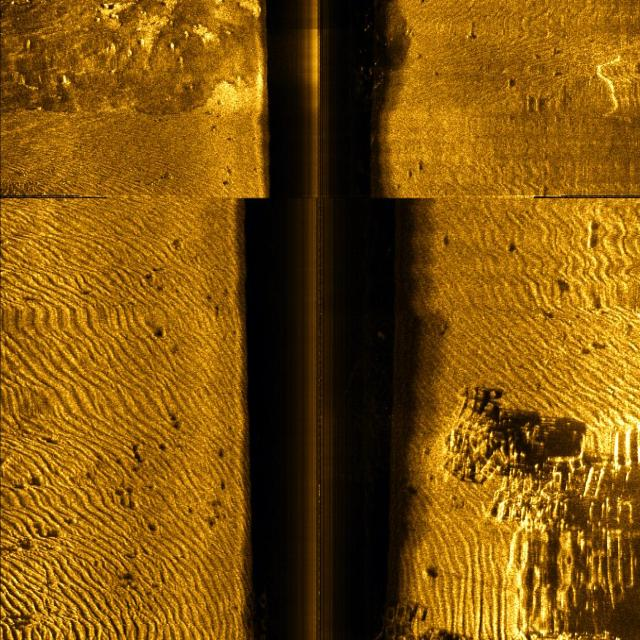artificial reef: (450, 385, 543, 532), (384, 581, 429, 640), (258, 579, 280, 639)
